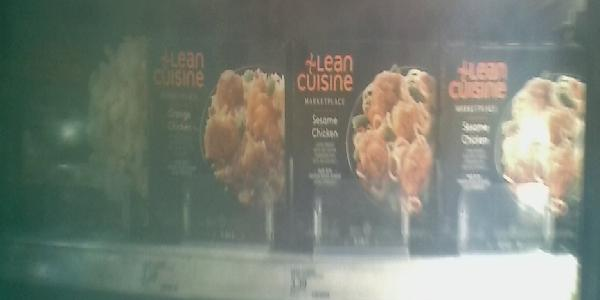pizza1: (290, 28, 446, 259), (448, 29, 600, 263), (141, 27, 288, 264)
